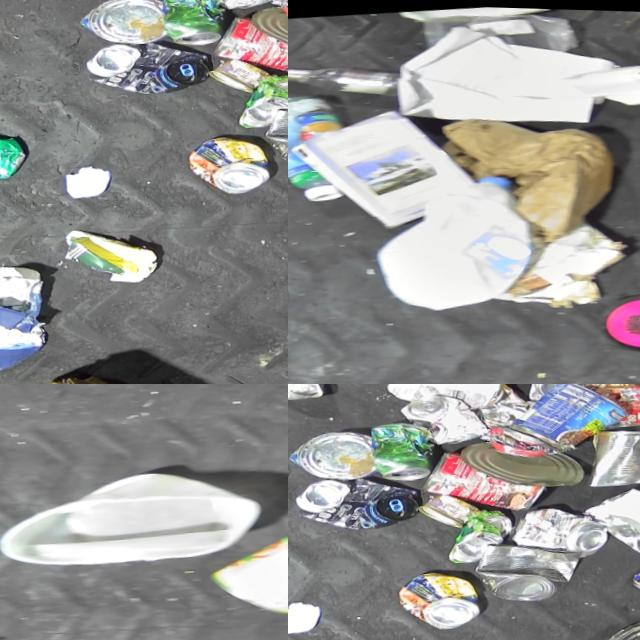can: (418, 440, 547, 517), (502, 384, 632, 457), (81, 31, 209, 99), (291, 467, 419, 535), (203, 522, 288, 622), (470, 532, 585, 604), (459, 431, 584, 492), (207, 3, 288, 80), (507, 499, 608, 559), (183, 129, 270, 196), (393, 565, 480, 632), (397, 389, 489, 448), (288, 424, 374, 483), (367, 419, 436, 483), (74, 0, 164, 47), (442, 505, 514, 563), (579, 420, 640, 486), (231, 68, 288, 127), (156, 0, 226, 47), (206, 52, 269, 94), (416, 488, 479, 530), (588, 384, 640, 430), (248, 0, 288, 55), (259, 96, 288, 167), (0, 130, 25, 185), (624, 538, 640, 599), (524, 384, 588, 399)
milk_jug: (0, 457, 264, 576), (365, 167, 538, 316), (387, 3, 555, 25)
